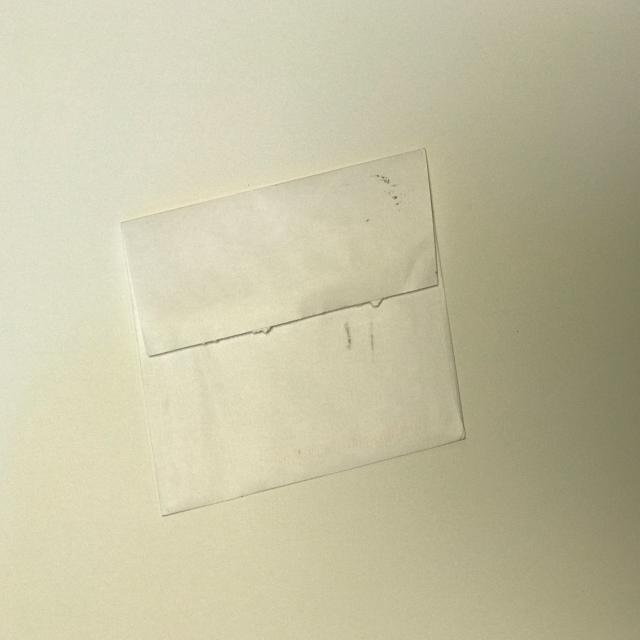paper: (90, 115, 484, 547)
